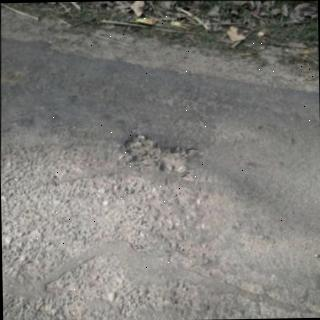pothole: (123, 134, 196, 177)
